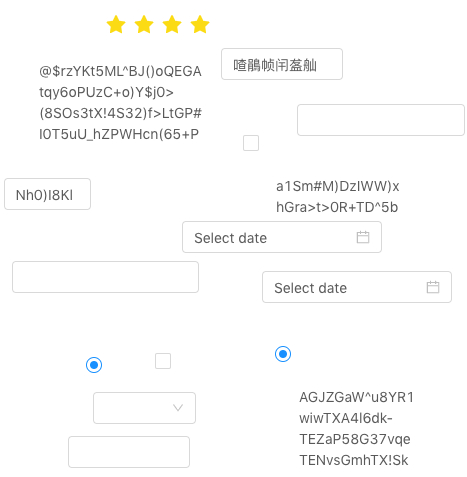Checkbox: (155, 350, 171, 371), (243, 132, 259, 153)
DatePicker: (182, 221, 382, 253), (262, 271, 452, 303)
Input: (12, 261, 199, 293), (297, 104, 465, 136), (221, 48, 343, 80), (68, 436, 190, 468), (4, 178, 91, 210)
Radio: (86, 354, 102, 374), (275, 343, 291, 363)
Rate: (106, 8, 226, 40)
Select: (93, 392, 196, 424)
Text: (39, 60, 205, 148), (299, 386, 417, 470), (276, 175, 402, 217)
